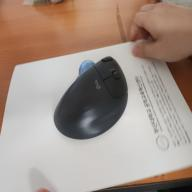mouse: (48, 51, 134, 143)
